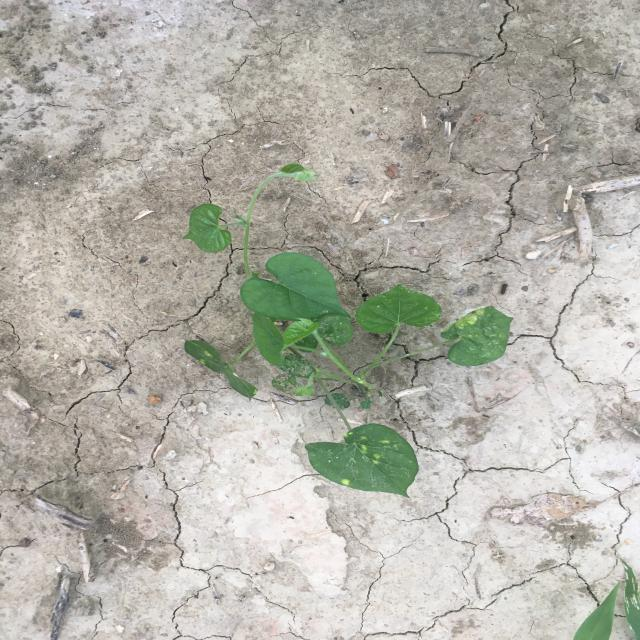MorningGlory: (180, 162, 517, 500)
